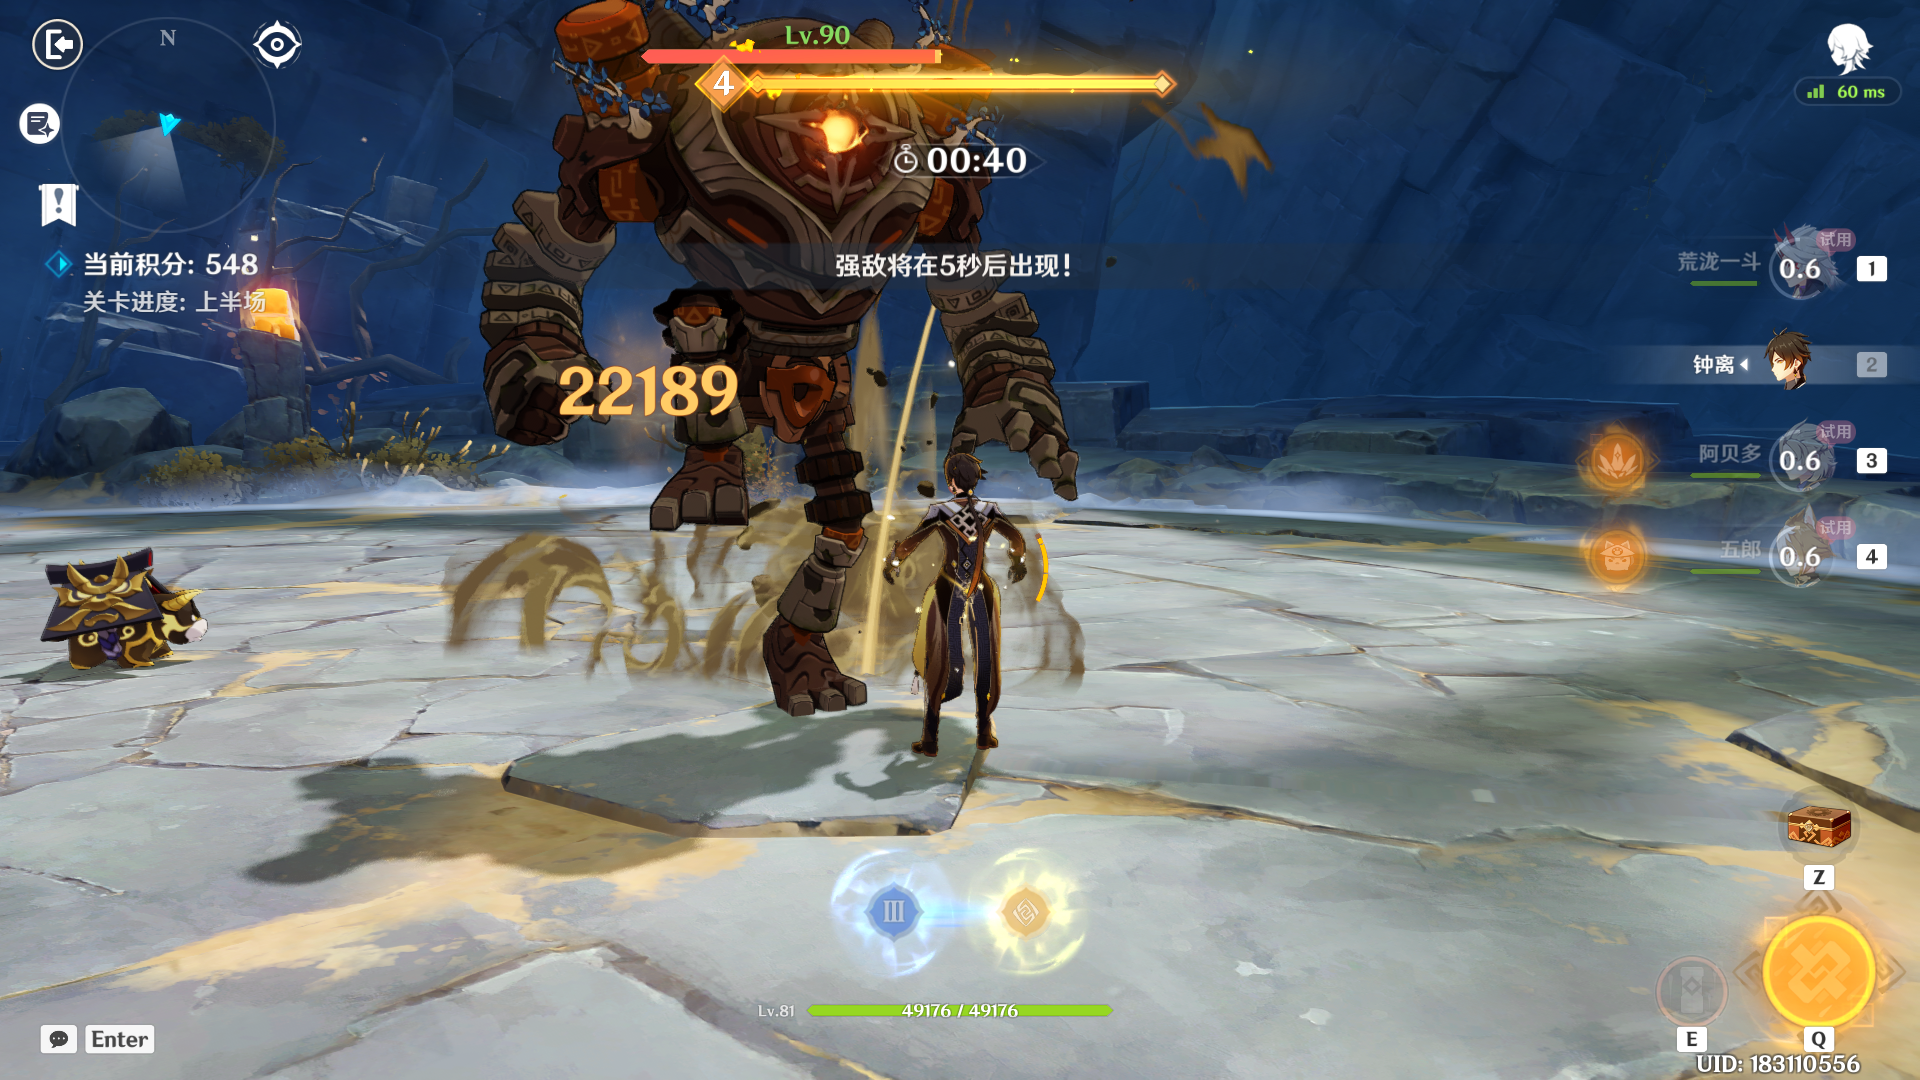character: (869, 431, 1062, 822)
